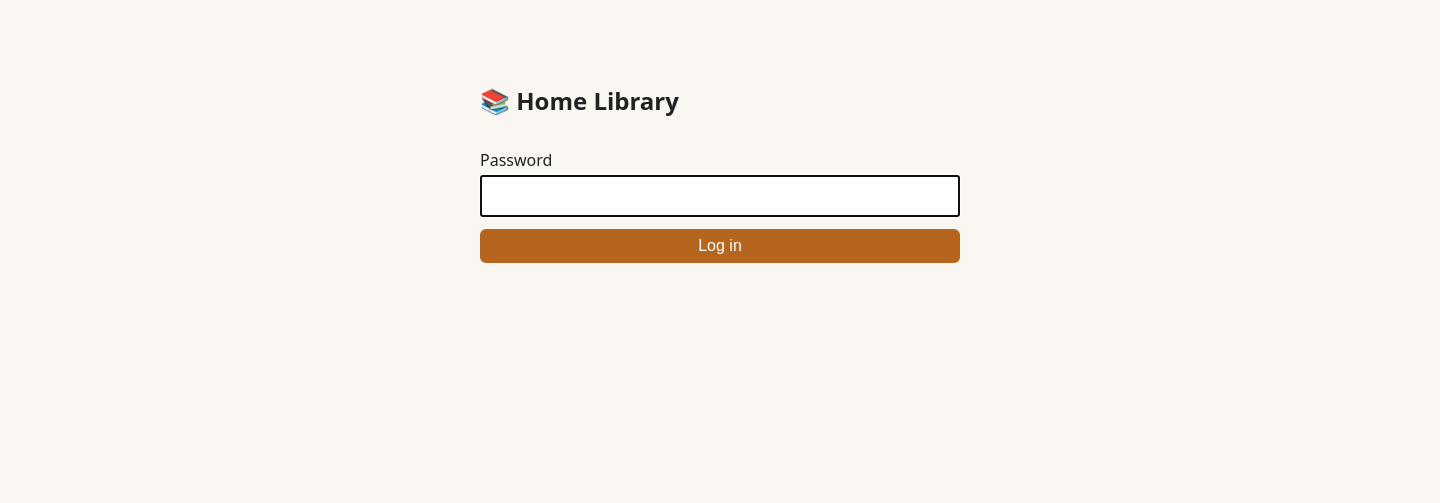
it: login gate › logs in, shows the library, and logs out again
The image size is (1440, 503).
Type "secret" into the password field labelled "Password". click: (720, 196)
box: [480, 175, 960, 217]
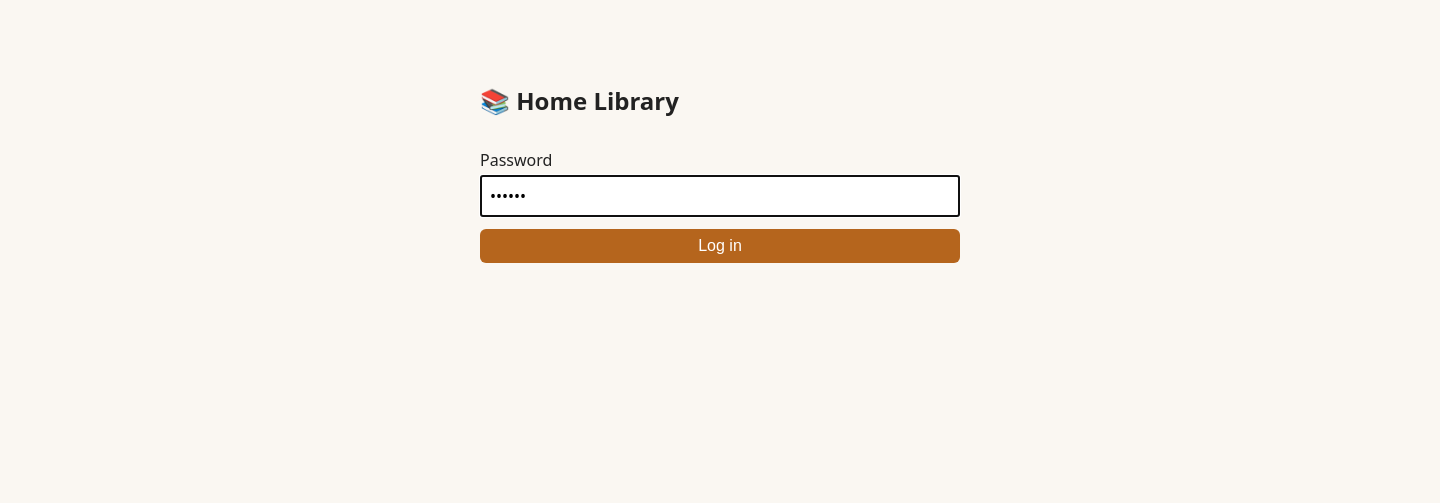
Click the button "Log in". click: (720, 246)
box: [480, 229, 960, 263]
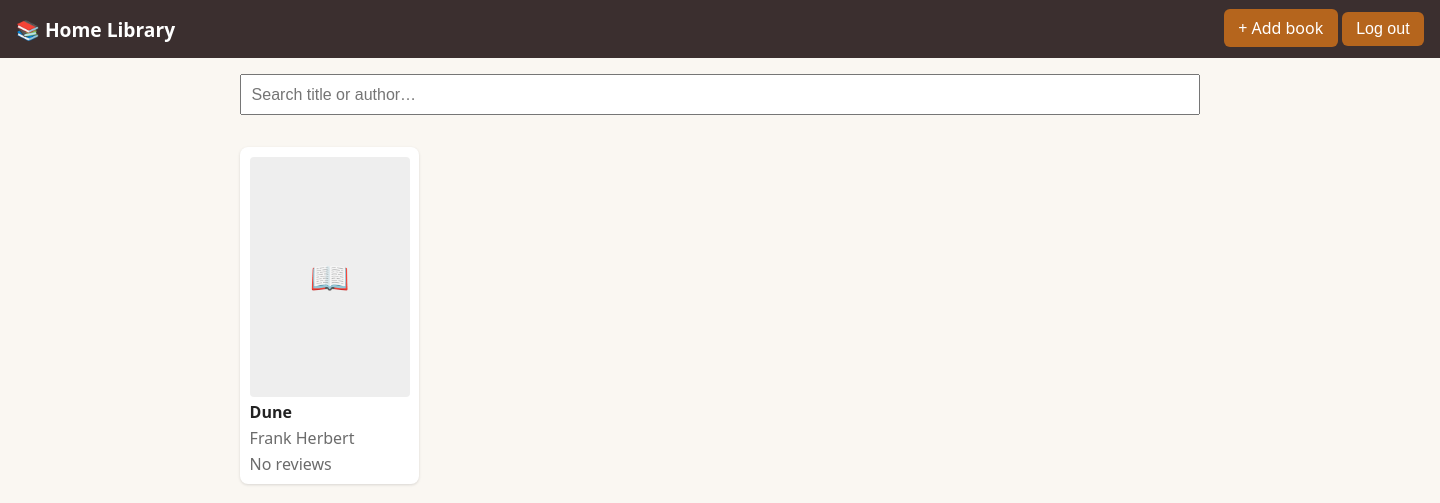
Check: the text "Dune" is shown, box [250, 401, 292, 423]
Click the button "Log out". click: (1383, 29)
box: [1342, 12, 1424, 46]
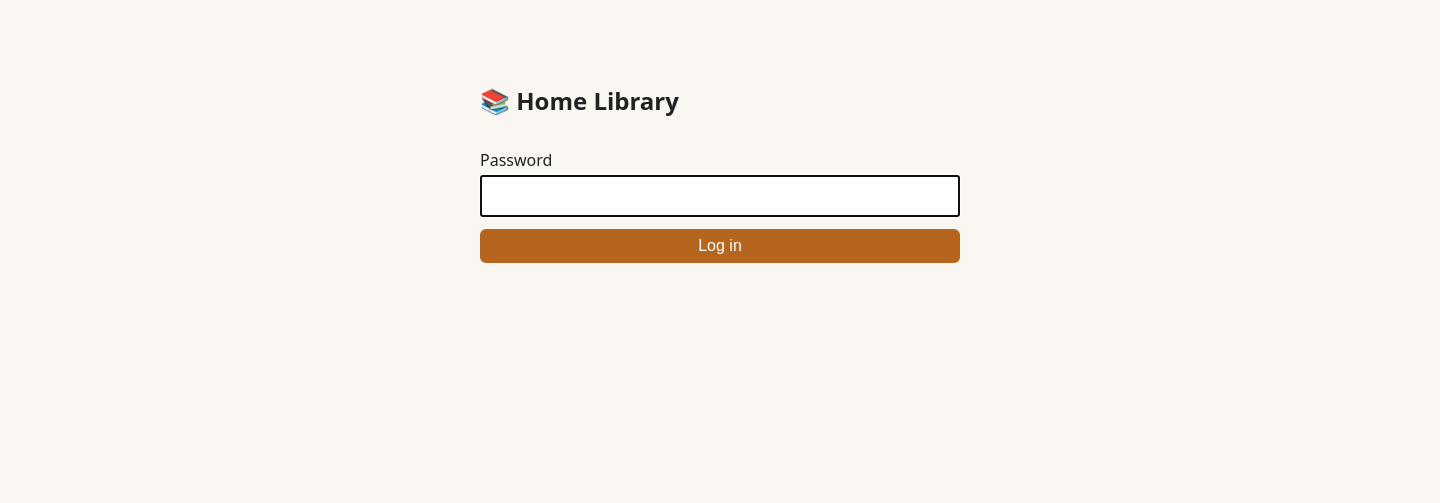
Check: the password field labelled "Password" is shown, box [480, 175, 960, 217]
